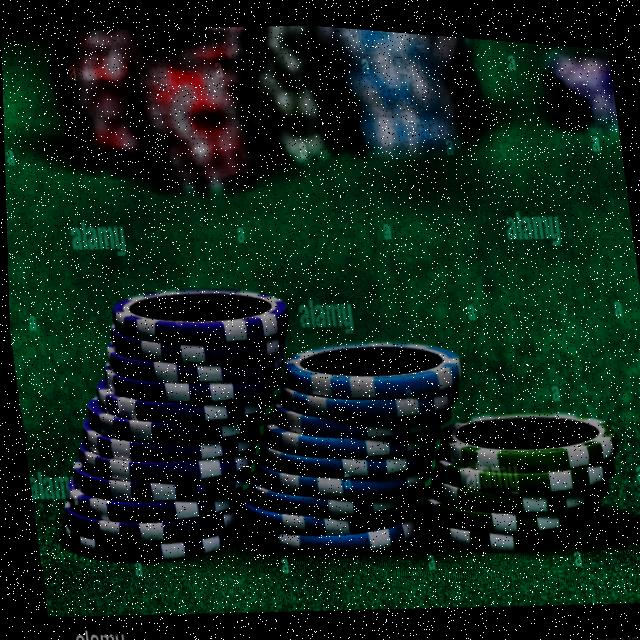Chip: (24, 246, 325, 593), (207, 309, 489, 574), (393, 379, 640, 571)
